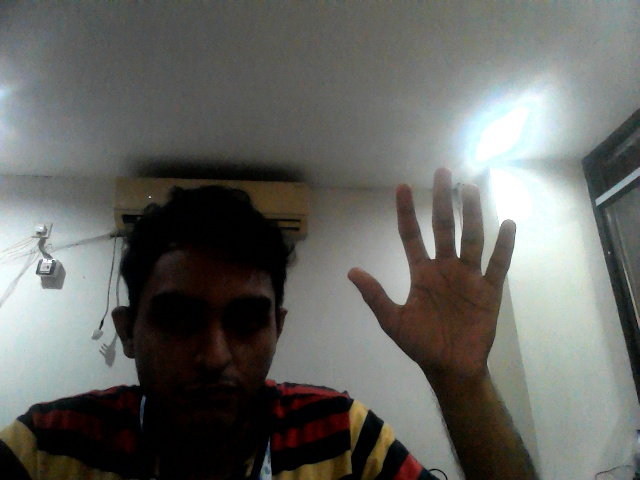palm: (343, 163, 526, 385)
